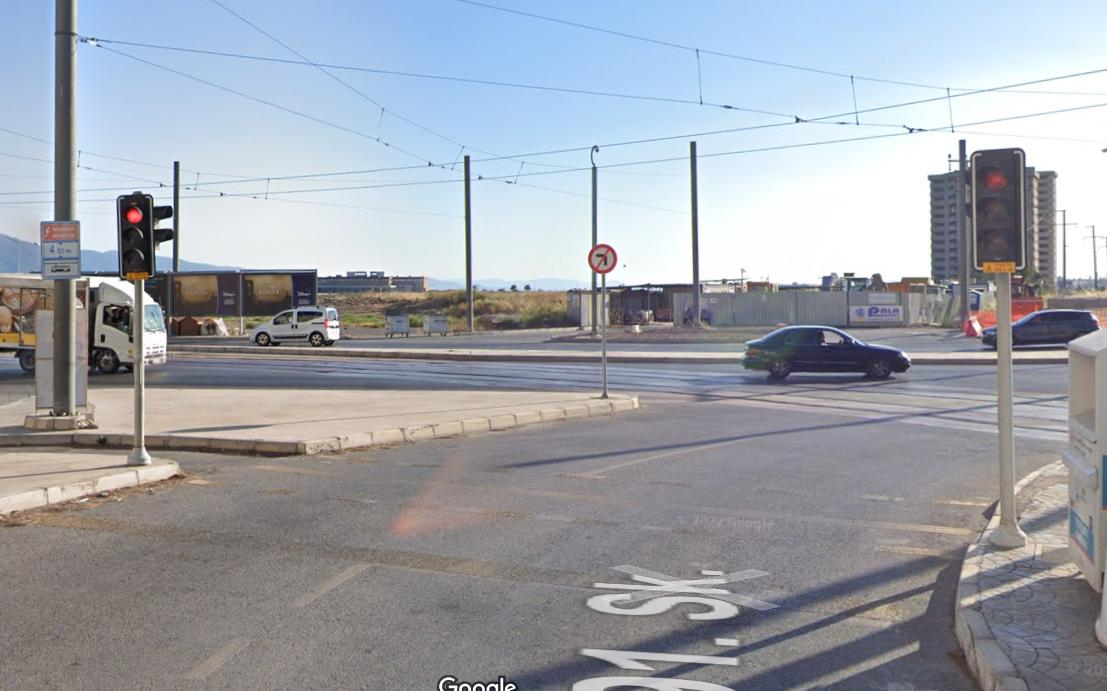leftturnsareforbidden: (589, 246, 617, 270)
redlight: (978, 153, 1023, 267), (115, 198, 155, 278)
